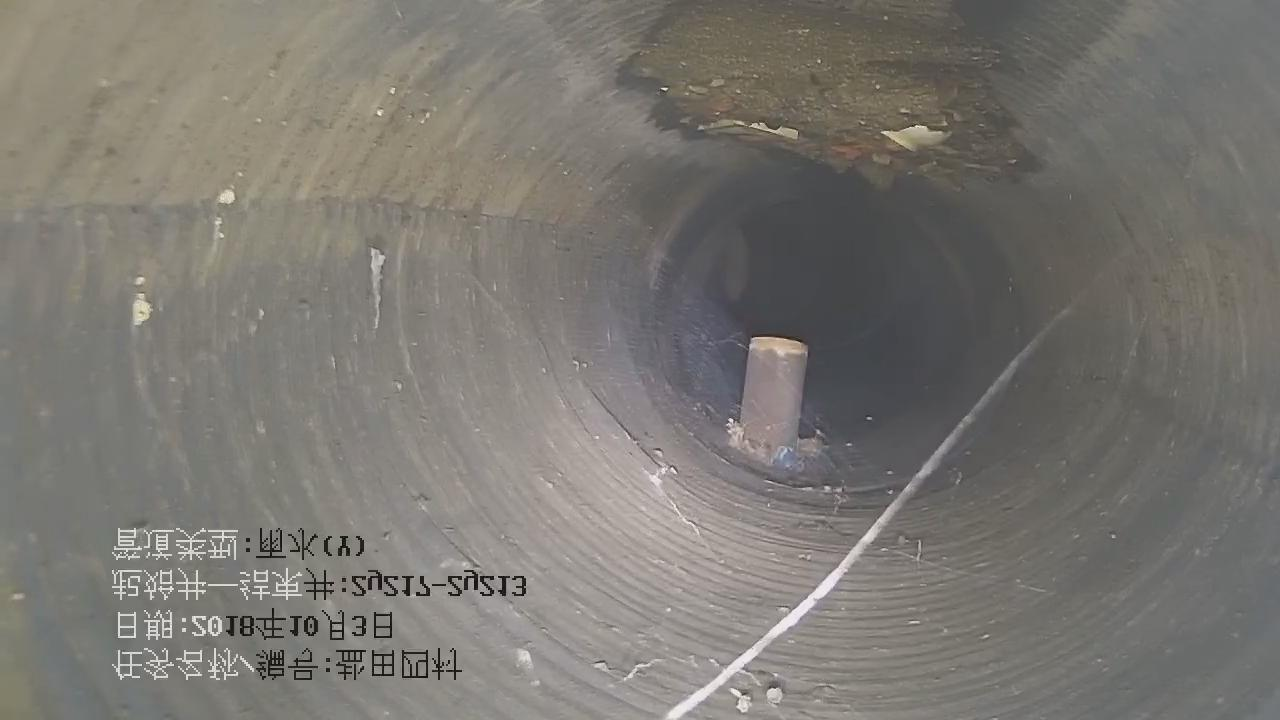CJ: (629, 1, 1032, 186)
ZGAJ: (729, 337, 807, 465)
